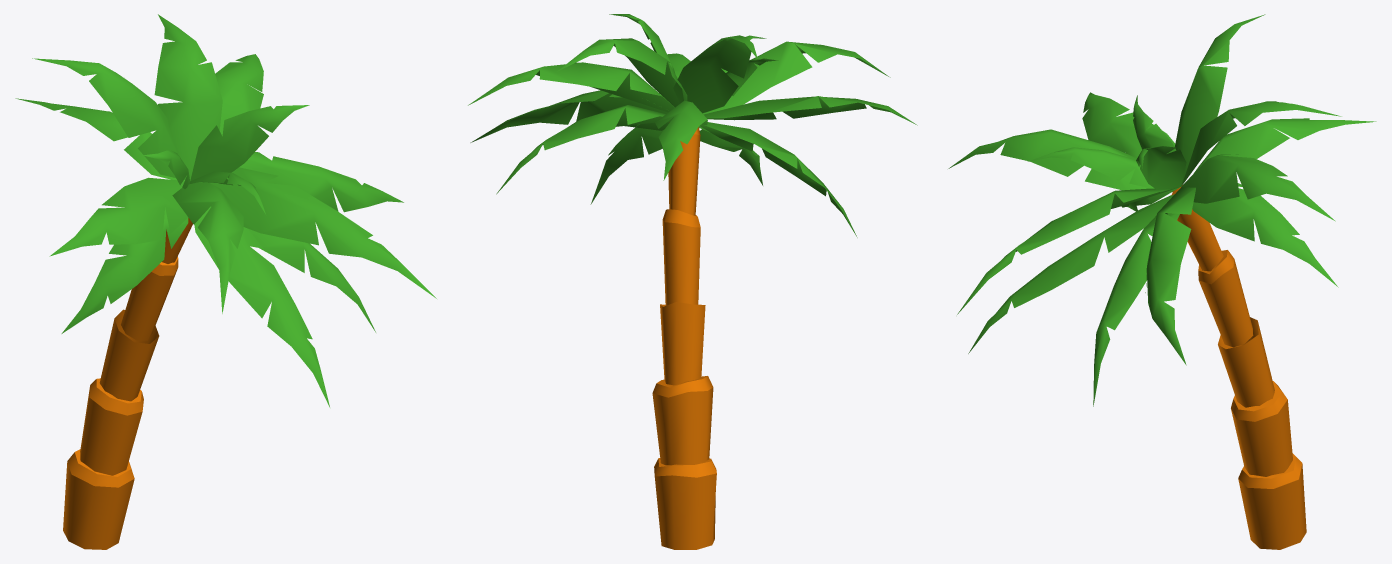
3 renders of one model, left to right at view 1: azimuth 30°, elevation 25°; view 2: azimuth 150°, elevation 25°; view 3: azimuth 270°, elevation 25°, orthographic.
Visible parts, largest first — view 1: diorama.005; view 2: diorama.005; view 3: diorama.005.
Part boxes in pixels (x1,y1,x2,y2): diorama.005: (15, 14, 436, 549); diorama.005: (468, 14, 917, 549); diorama.005: (948, 14, 1376, 549).
Bounding box in the file's own units: 202 × 240 × 189.
